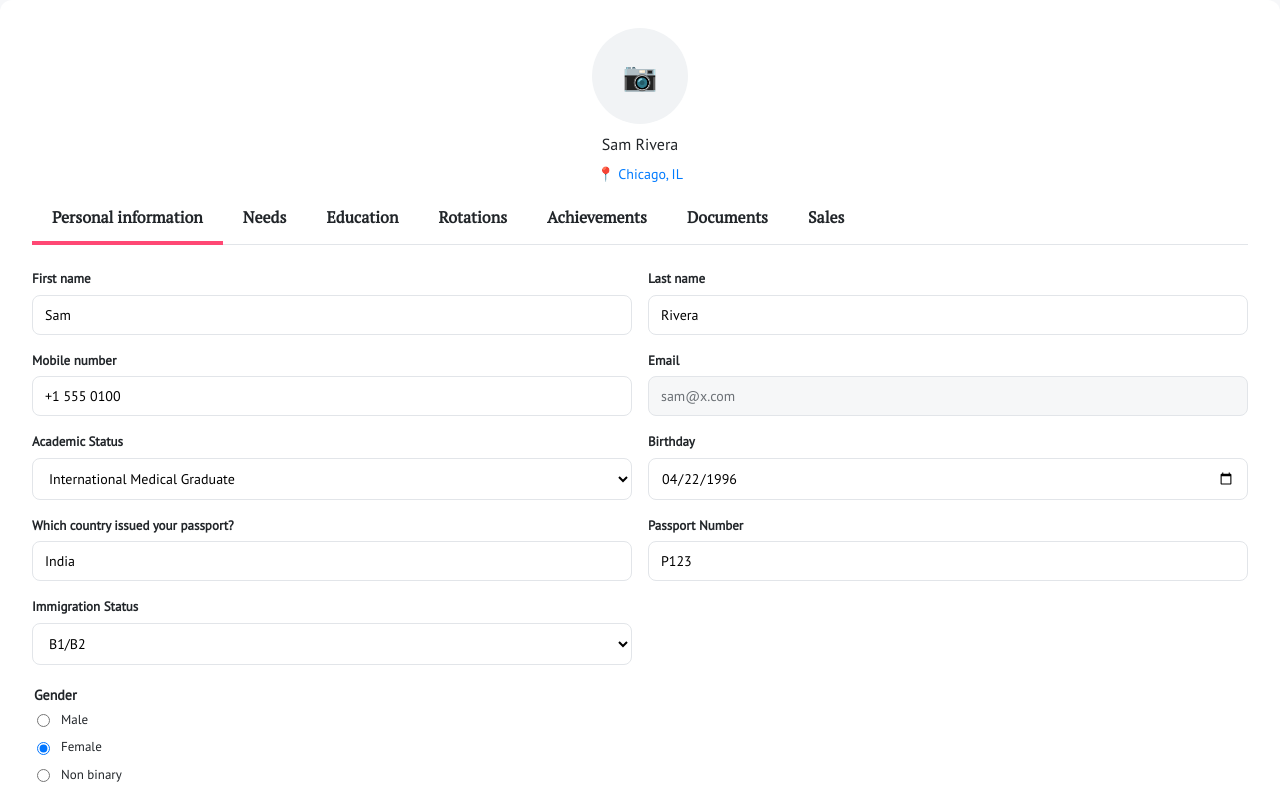
Scenario: StudentProfilePage › swaps passport fields for the ID fields on the D.O. track
Expected: the field labelled "Which country issued your passport?" is shown, [32,541,632,581]
Select "DO Student" in the dropdown labelled "Academic Status": (332, 478) [32,458,632,500]
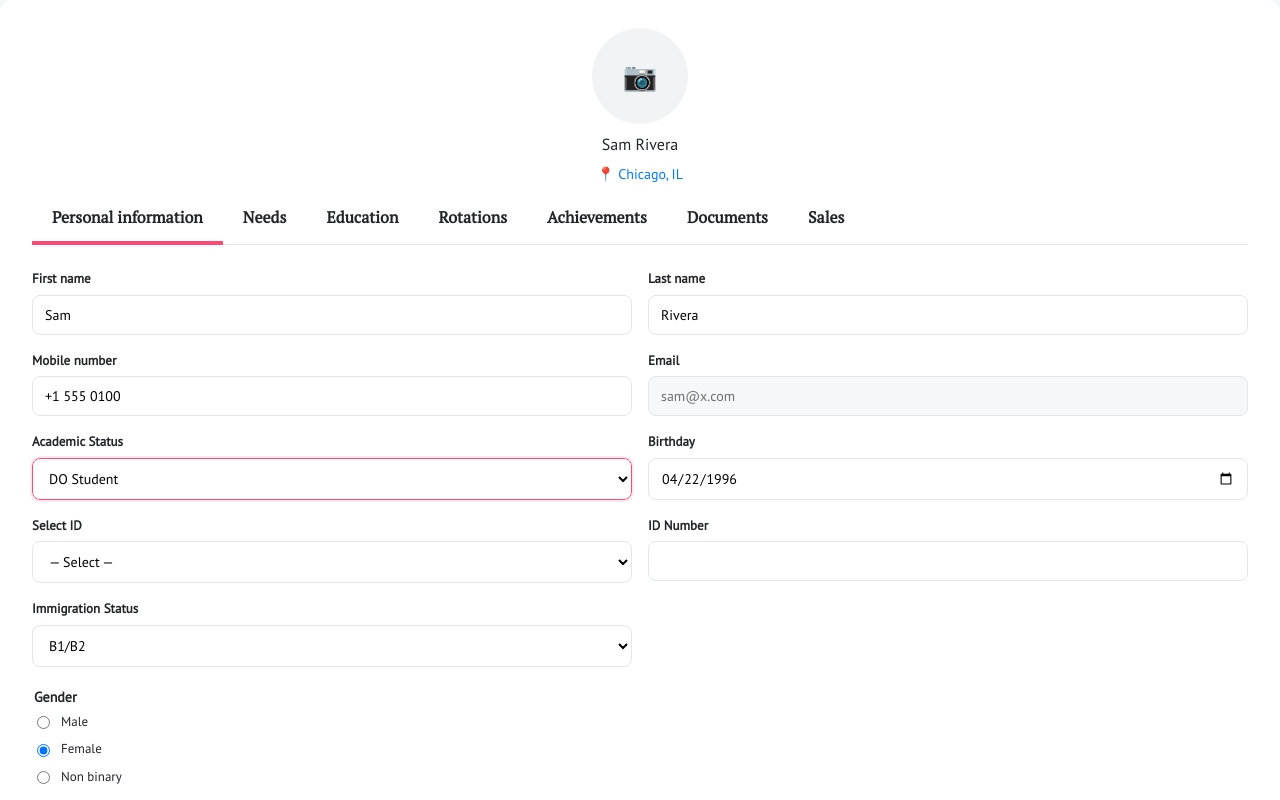
Result: the dropdown labelled "Select ID" is shown at [32,541,632,583]
Result: the label labelled "Which country issued your passport?" is gone
